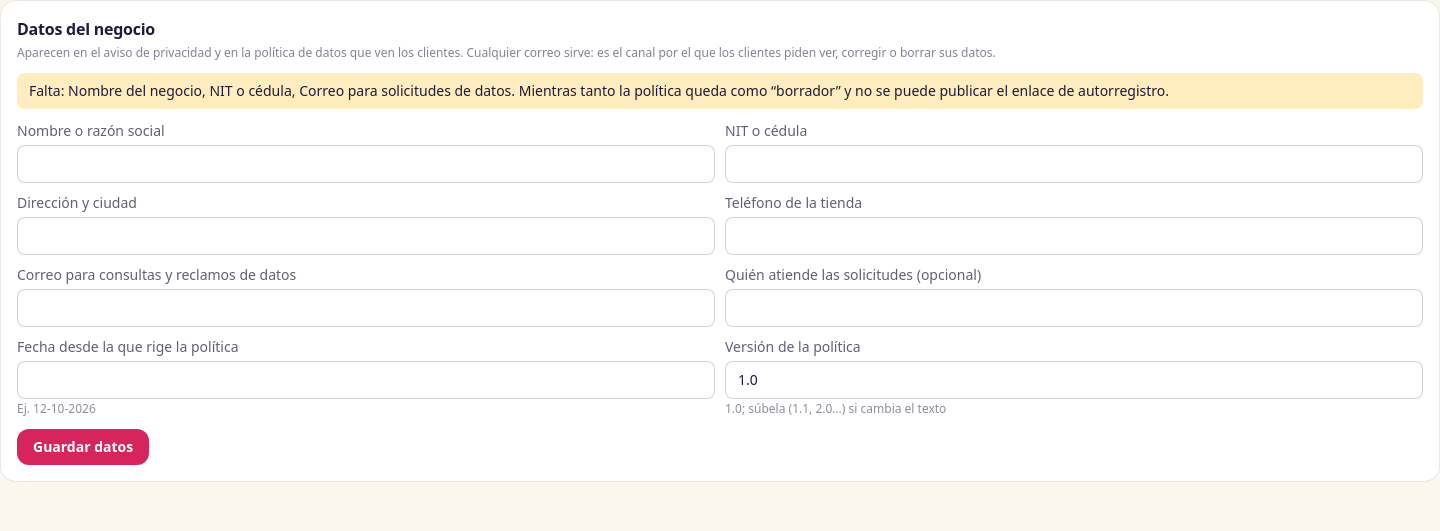
DatosNegocio (HU-07): datos del responsable, editables desde la aplicación › muestra el error del servidor al guardar (correo mal escrito)
Click the button "Guardar datos" at x=83, y=447, box [17,429,149,465]
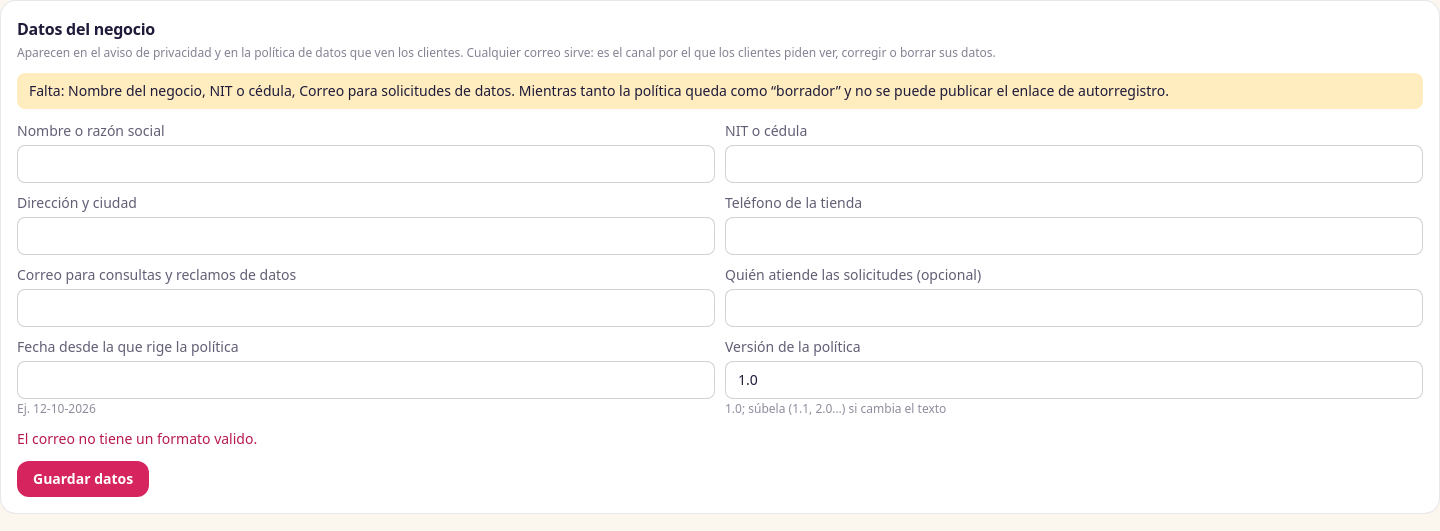
Expected: the message reads "El correo no tiene un formato valido.", [17,429,257,448]
